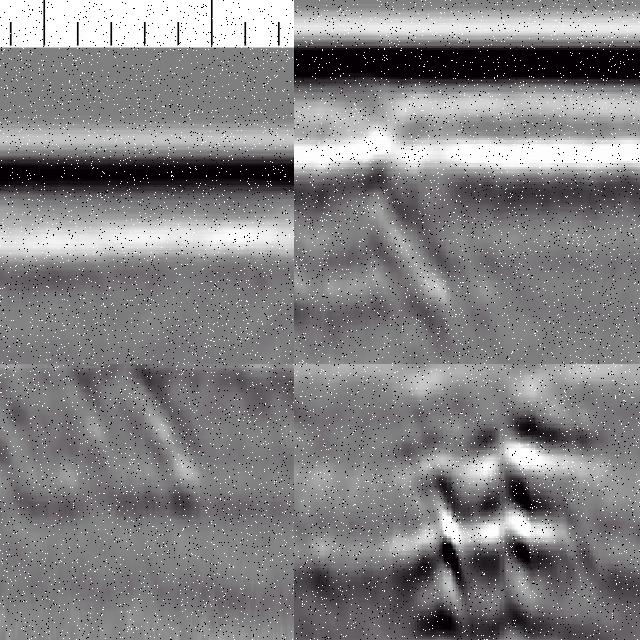loose: (391, 391, 602, 640), (1, 365, 229, 516), (295, 142, 470, 333)
